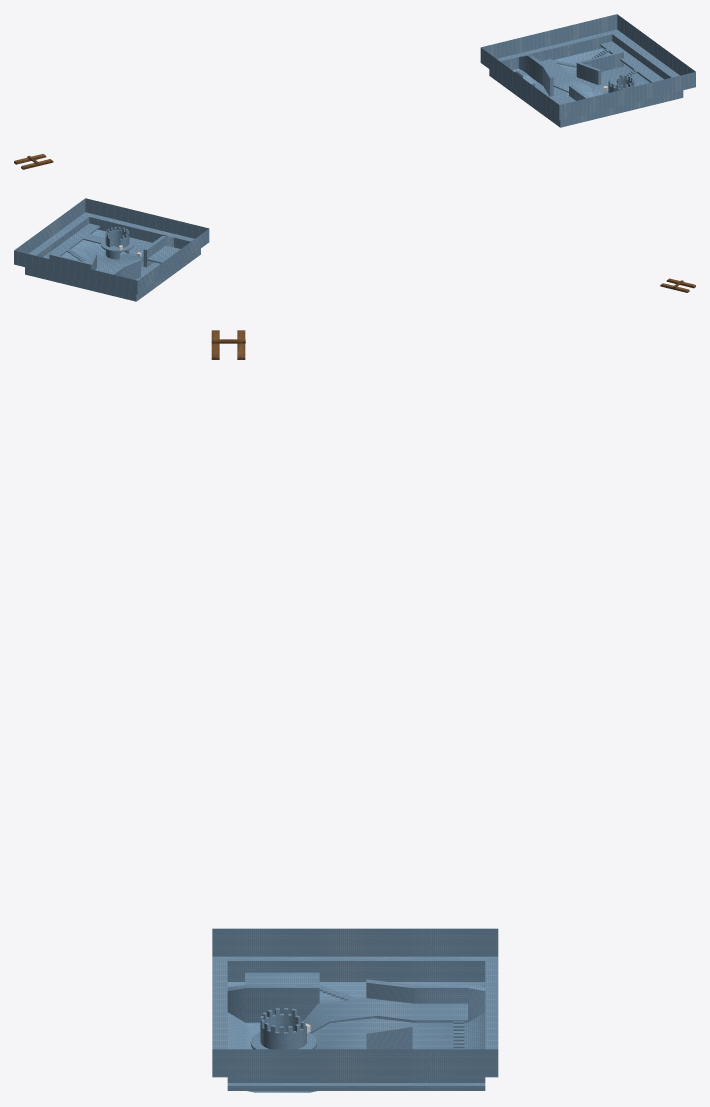
3 renders of one model, top to bottom at view 1: azimuth 30°, elevation 25°; view 2: azimuth 150°, elevation 25°; view 3: azimuth 270°, elevation 25°, orthographic. The views are drawn at different scales.
Parts seen in each view (by area): view 1: Cube.004, Object_barrel_0; view 2: Cube.004, Object_barrel_0; view 3: Cube.004.
Part boxes in pixels (<box>): Cube.004: <box>480,14,695,127</box>; Object_barrel_0: <box>14,154,53,169</box>; Cube.004: <box>14,198,209,301</box>; Object_barrel_0: <box>660,278,695,292</box>; Cube.004: <box>212,928,498,1092</box>.
Size of the model in its own units: 169 by 25.35 by 34.46.
2 materials, 2 textured.
